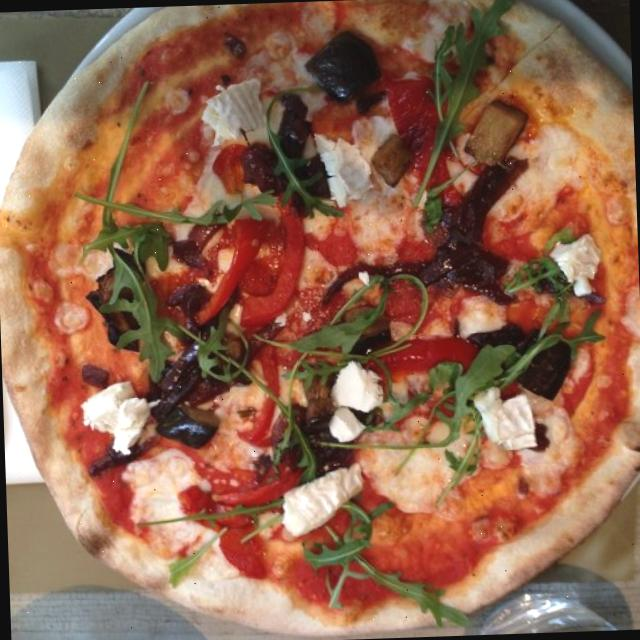Bell Pepper: (176, 223, 288, 333), (238, 200, 316, 352), (228, 338, 300, 458), (366, 332, 494, 388), (208, 456, 312, 518)
cheese: (276, 444, 388, 544), (77, 372, 161, 466), (315, 118, 376, 218), (474, 384, 543, 466), (201, 70, 262, 153), (544, 230, 610, 293), (326, 362, 392, 419), (320, 394, 374, 446)
pizza: (0, 0, 640, 633)
